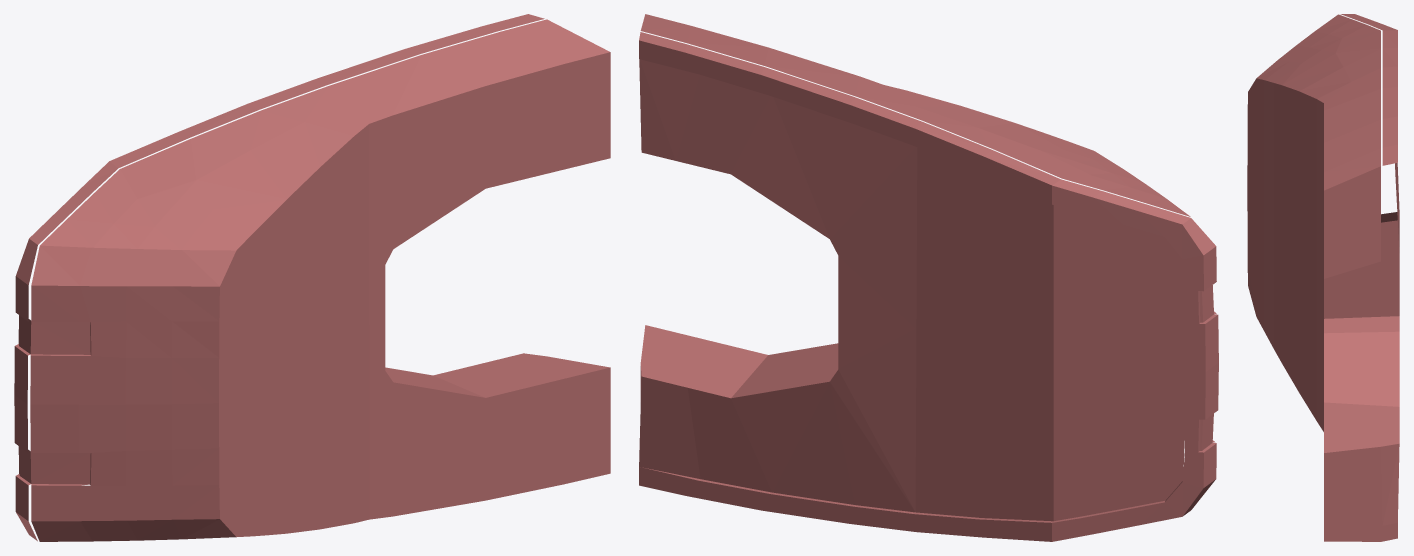
Rendered from ink__rx78_Null_087_link__rx78_Null_088_link__rx78_Null_089_link__rx78_Null_091_link__rx78_object_091-lib.dae_3__d5e90e17.glb.
3 views of the same model, side by side, from view 1: azimuth 30°, elevation 25°; view 2: azimuth 150°, elevation 25°; view 3: azimuth 270°, elevation 25° (orthographic). The views are drawn at different scales.
Parts seen in each view (by area): view 1: world; view 2: world; view 3: world.
Boxes of the visible parts, x1,y1,x2,y2 form: world: (14, 14, 610, 541); world: (639, 14, 1218, 541); world: (1247, 14, 1399, 541).
Size of the model in its own units: 3.27 by 2.42 by 0.8881.
